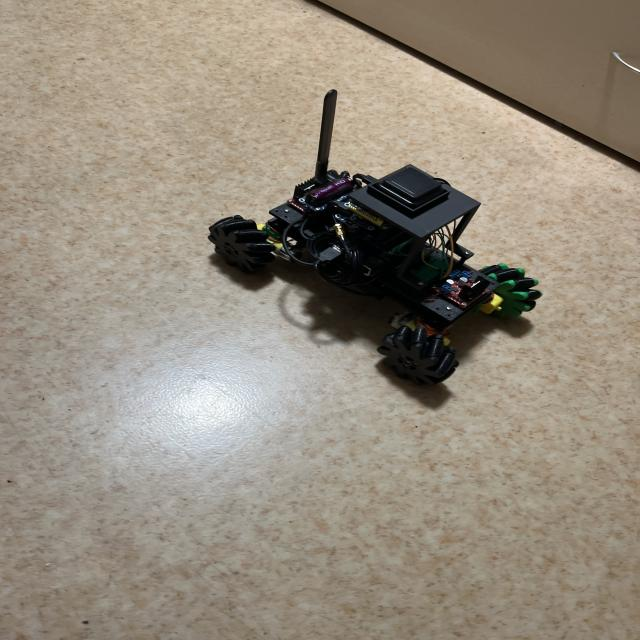robot: (208, 90, 542, 384)
